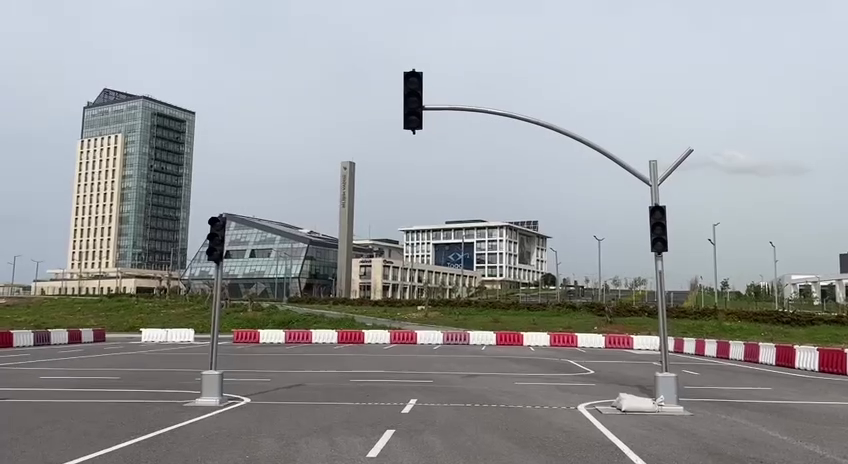trafficLight: (400, 66, 426, 136), (646, 201, 673, 255), (204, 211, 227, 265)
